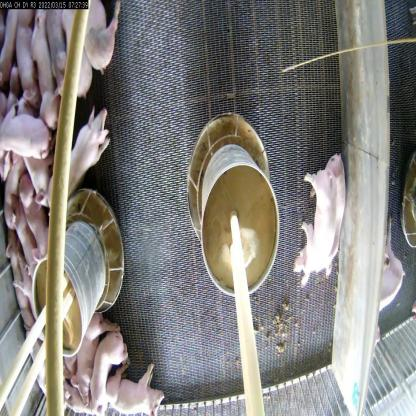Pig: (45, 92, 115, 206), (287, 163, 337, 293), (66, 316, 118, 404), (101, 355, 166, 415), (33, 5, 62, 131), (59, 6, 96, 102), (18, 169, 53, 267), (1, 98, 52, 164), (79, 0, 122, 78), (42, 5, 73, 98), (92, 323, 122, 410), (0, 143, 28, 236), (329, 144, 350, 260), (4, 240, 29, 334), (24, 140, 53, 203)
